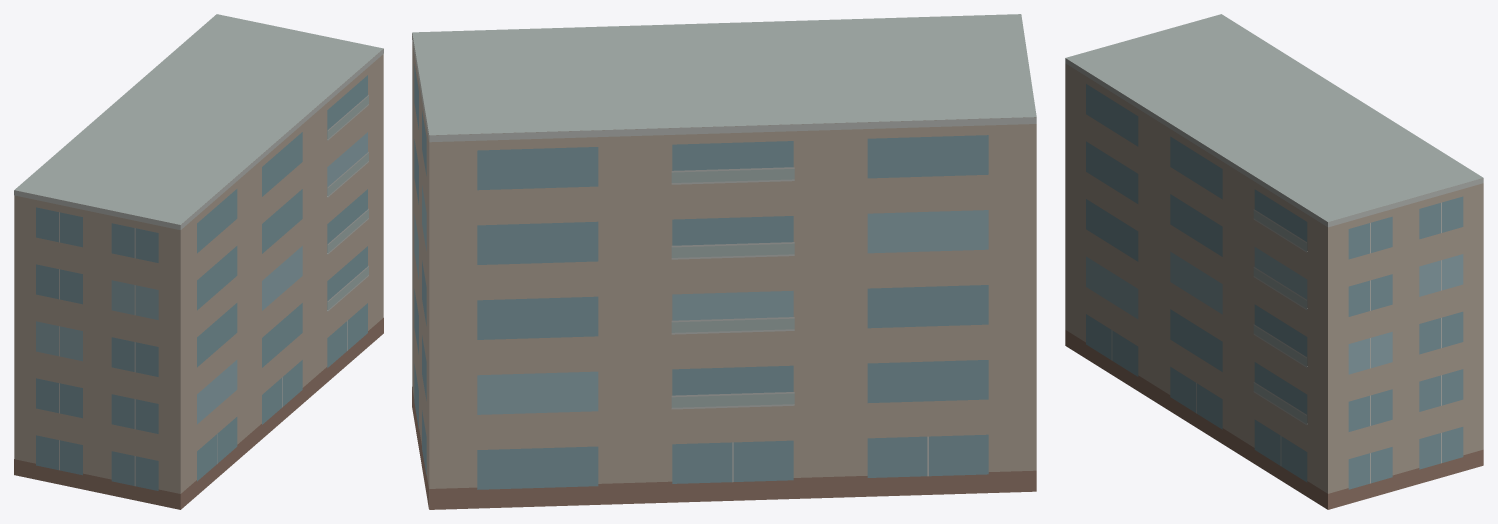
The model's file is survey-upis-32948652.glb.
3 views of the same model, side by side, from view 1: azimuth 30°, elevation 25°; view 2: azimuth 150°, elevation 25°; view 3: azimuth 270°, elevation 25° (orthographic). The views are drawn at different scales.
Parts seen in each view (by area): view 1: survey-upis-32948652.tmp; view 2: survey-upis-32948652.tmp; view 3: survey-upis-32948652.tmp.
Boxes of the visible parts, x1,y1,x2,y2 form: survey-upis-32948652.tmp: (14, 14, 383, 509); survey-upis-32948652.tmp: (412, 14, 1036, 509); survey-upis-32948652.tmp: (1065, 14, 1483, 509).
Bounding box in the file's own units: 20.56 × 13.25 × 17.47.
